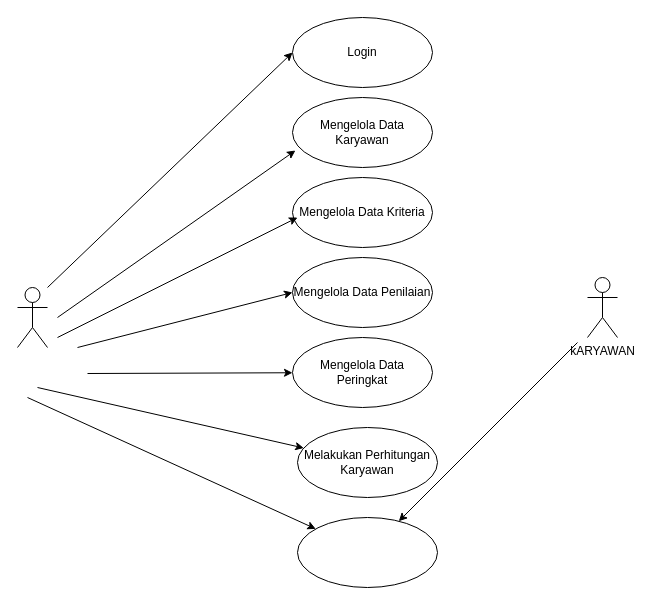
Some shapes in this 652 by 605 pixel diagram are drawn without their labels. Each missing label, with the box of its shape:
BOS: (16, 286, 48, 348)
Menampilkan Nilai dan Peringkat Karyawan: (296, 516, 438, 588)
